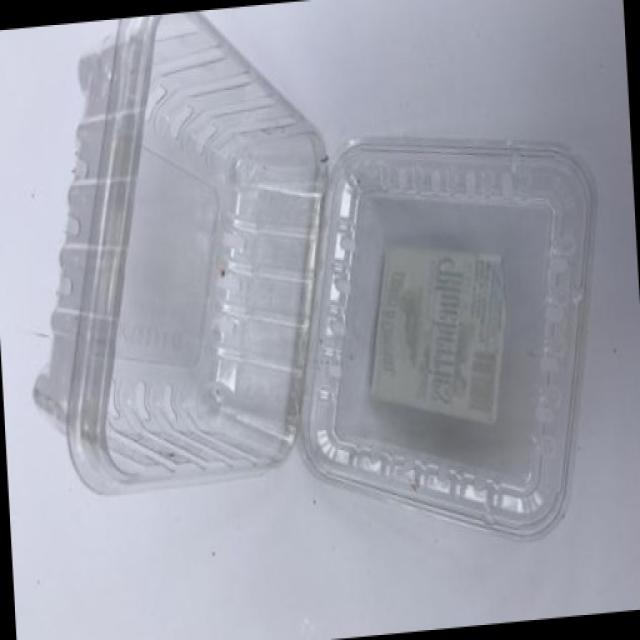plastico: (63, 24, 606, 586)
